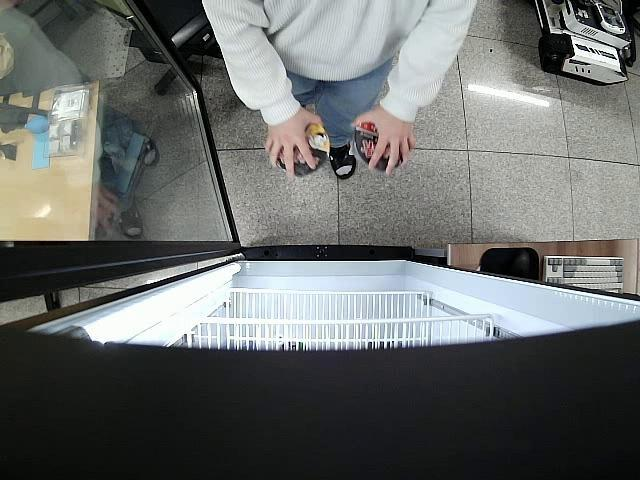07_buldak_L: (352, 118, 406, 172), (275, 126, 332, 176)
